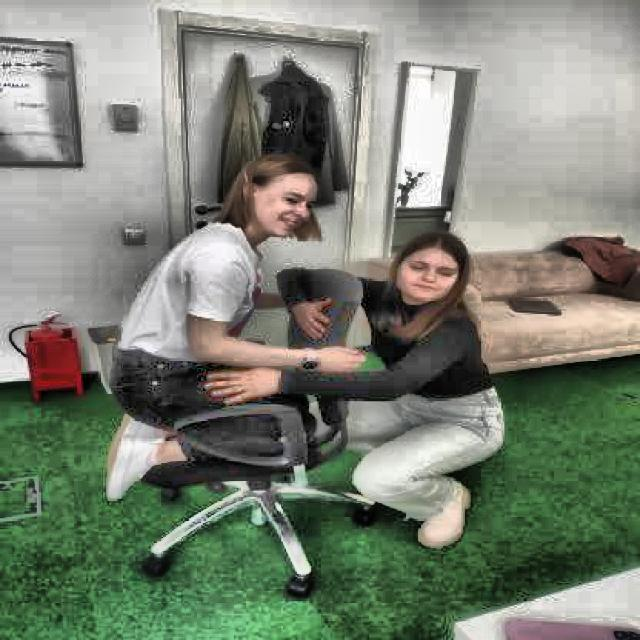cadeira: (121, 262, 384, 601)
